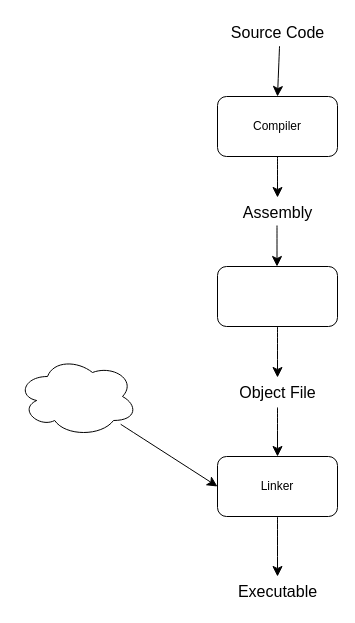
This 355x623 diagram has some shape labels left out. The shapes that lost their labels are listed below. From the top down, each one's centre as x and y in pixels, then its label:
At point 277,296: "Assembler".
At point 77,396: "Libs".
